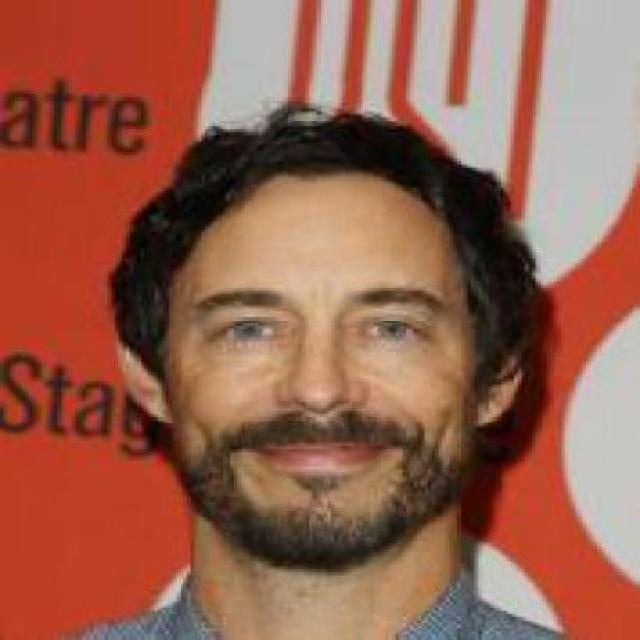closed-mouth: (247, 436, 393, 478)
